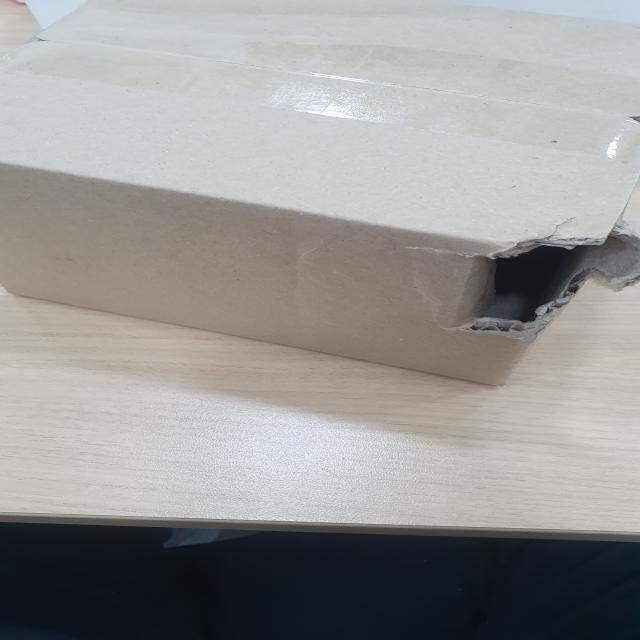hole: (464, 235, 590, 334)
